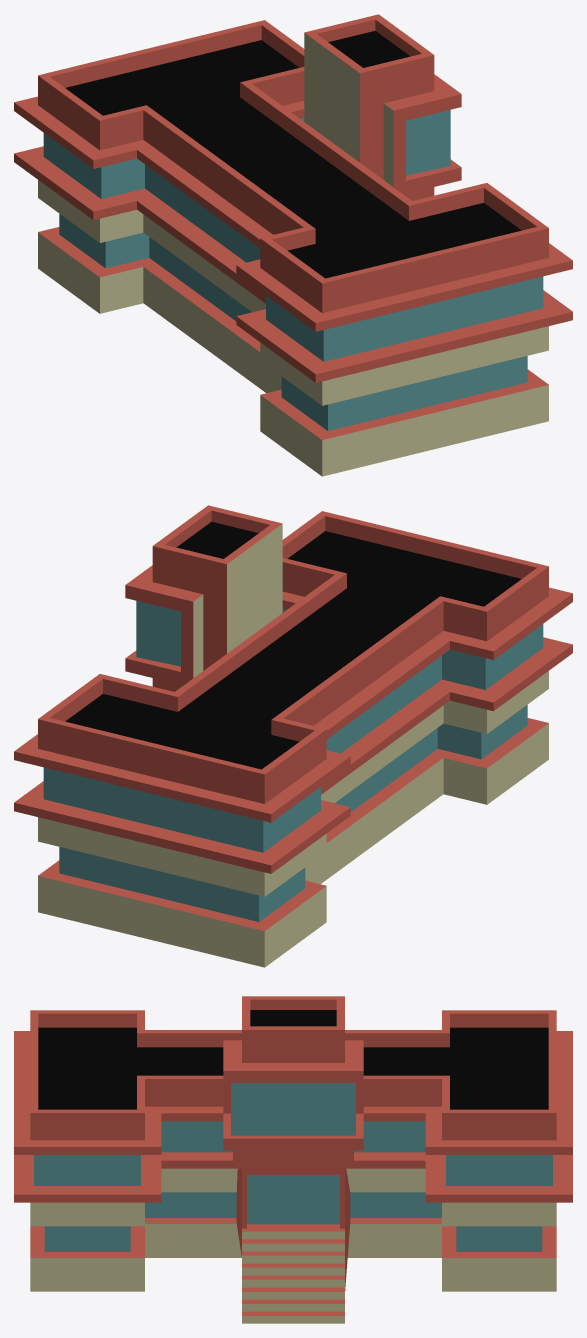
File: NewSchool4.fbx
The picture shows the model from 3 angles, top to bottom: view 1: azimuth 30°, elevation 25°; view 2: azimuth 150°, elevation 25°; view 3: azimuth 270°, elevation 25°; orthographic projection. The views are drawn at different scales.
Visible parts, largest first — view 1: S4; view 2: S4; view 3: S4.
Boxes of the visible parts, x1=… form: S4: x1=14, y1=14, x2=572, y2=476; S4: x1=14, y1=505, x2=572, y2=967; S4: x1=14, y1=996, x2=572, y2=1323.
Size of the model in its own units: 11.03 by 9.52 by 18.43.
